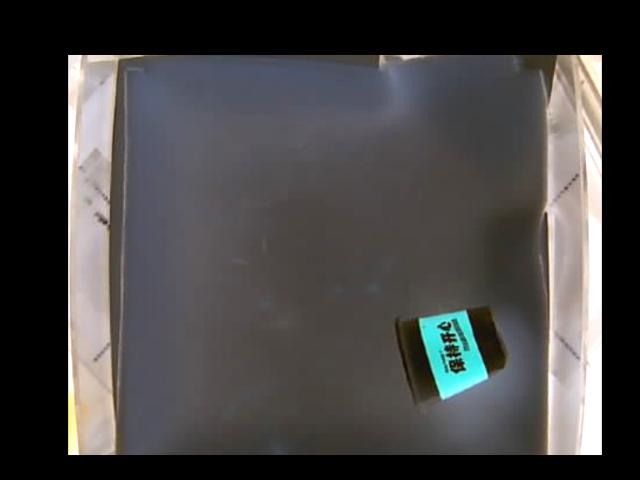Cup: (395, 308, 505, 405)
